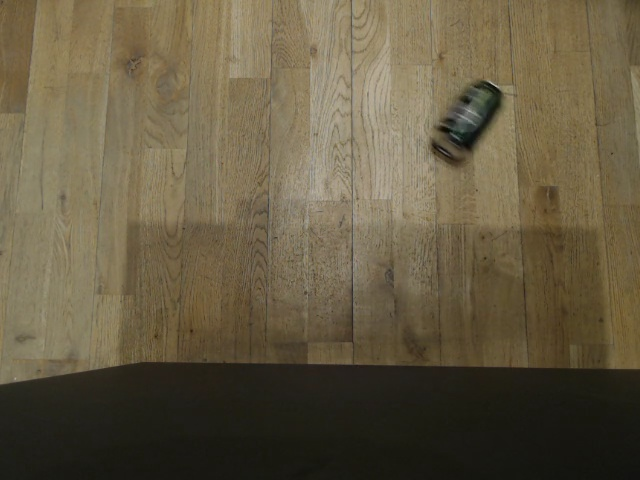beer: (427, 78, 508, 161)
